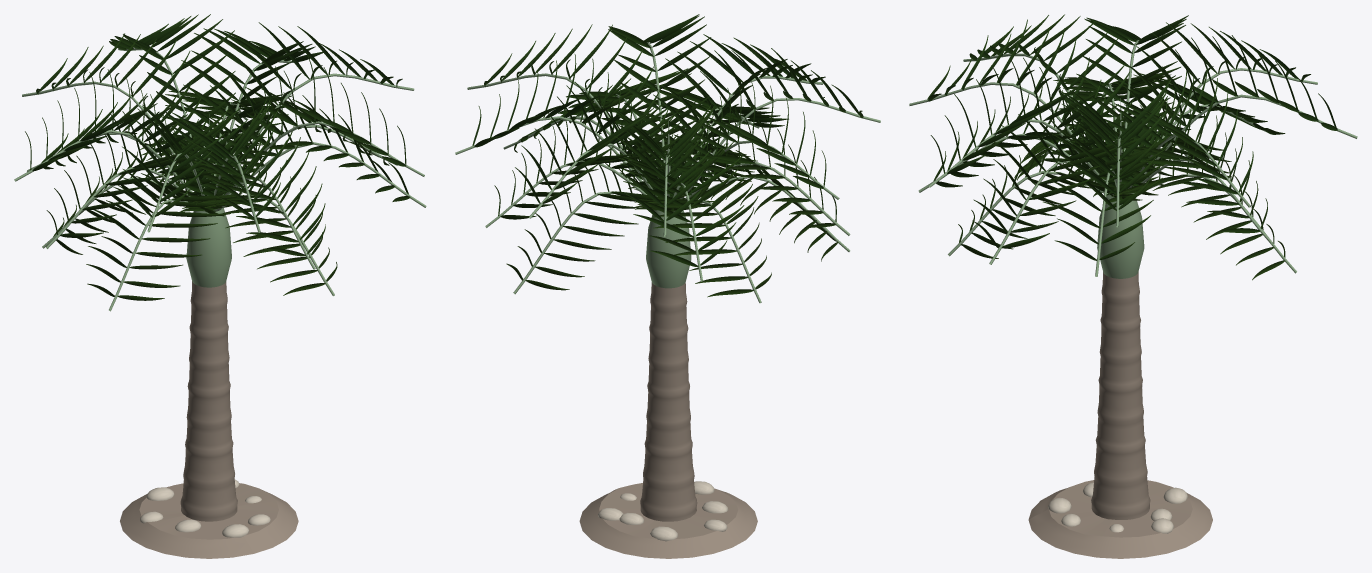
File: kowhai-hero-nat-01.glb
The picture shows the model from 3 angles, left to right: view 1: azimuth 30°, elevation 25°; view 2: azimuth 150°, elevation 25°; view 3: azimuth 270°, elevation 25°; orthographic projection. The views are drawn at different scales.
Visible parts, largest first — view 1: NikauPalm_InstancedLeaflets, NikauPalm_RingedTrunk, SubPart (×3), NikauPalm_Crownshaft; view 2: NikauPalm_InstancedLeaflets, NikauPalm_RingedTrunk, SubPart, NikauPalm_Crownshaft; view 3: NikauPalm_InstancedLeaflets, NikauPalm_RingedTrunk, SubPart, NikauPalm_Crownshaft.
Boxes of the visible parts, x1=… form: NikauPalm_InstancedLeaflets: x1=25, y1=14, x2=410, y2=300; NikauPalm_RingedTrunk: x1=180, y1=281, x2=237, y2=521; SubPart (×3): x1=120, y1=73, x2=426, y2=558; NikauPalm_Crownshaft: x1=186, y1=208, x2=231, y2=287; NikauPalm_InstancedLeaflets: x1=472, y1=14, x2=863, y2=297; NikauPalm_RingedTrunk: x1=640, y1=282, x2=697, y2=521; SubPart: x1=579, y1=483, x2=757, y2=558; NikauPalm_Crownshaft: x1=646, y1=210, x2=691, y2=288; NikauPalm_InstancedLeaflets: x1=927, y1=14, x2=1337, y2=280; NikauPalm_RingedTrunk: x1=1091, y1=271, x2=1150, y2=519; SubPart: x1=1028, y1=480, x2=1212, y2=558; NikauPalm_Crownshaft: x1=1097, y1=193, x2=1144, y2=278.
Bounding box in the file's own units: 2.29 × 2.63 × 2.23.
Materials: 4 (2 with a texture image).
